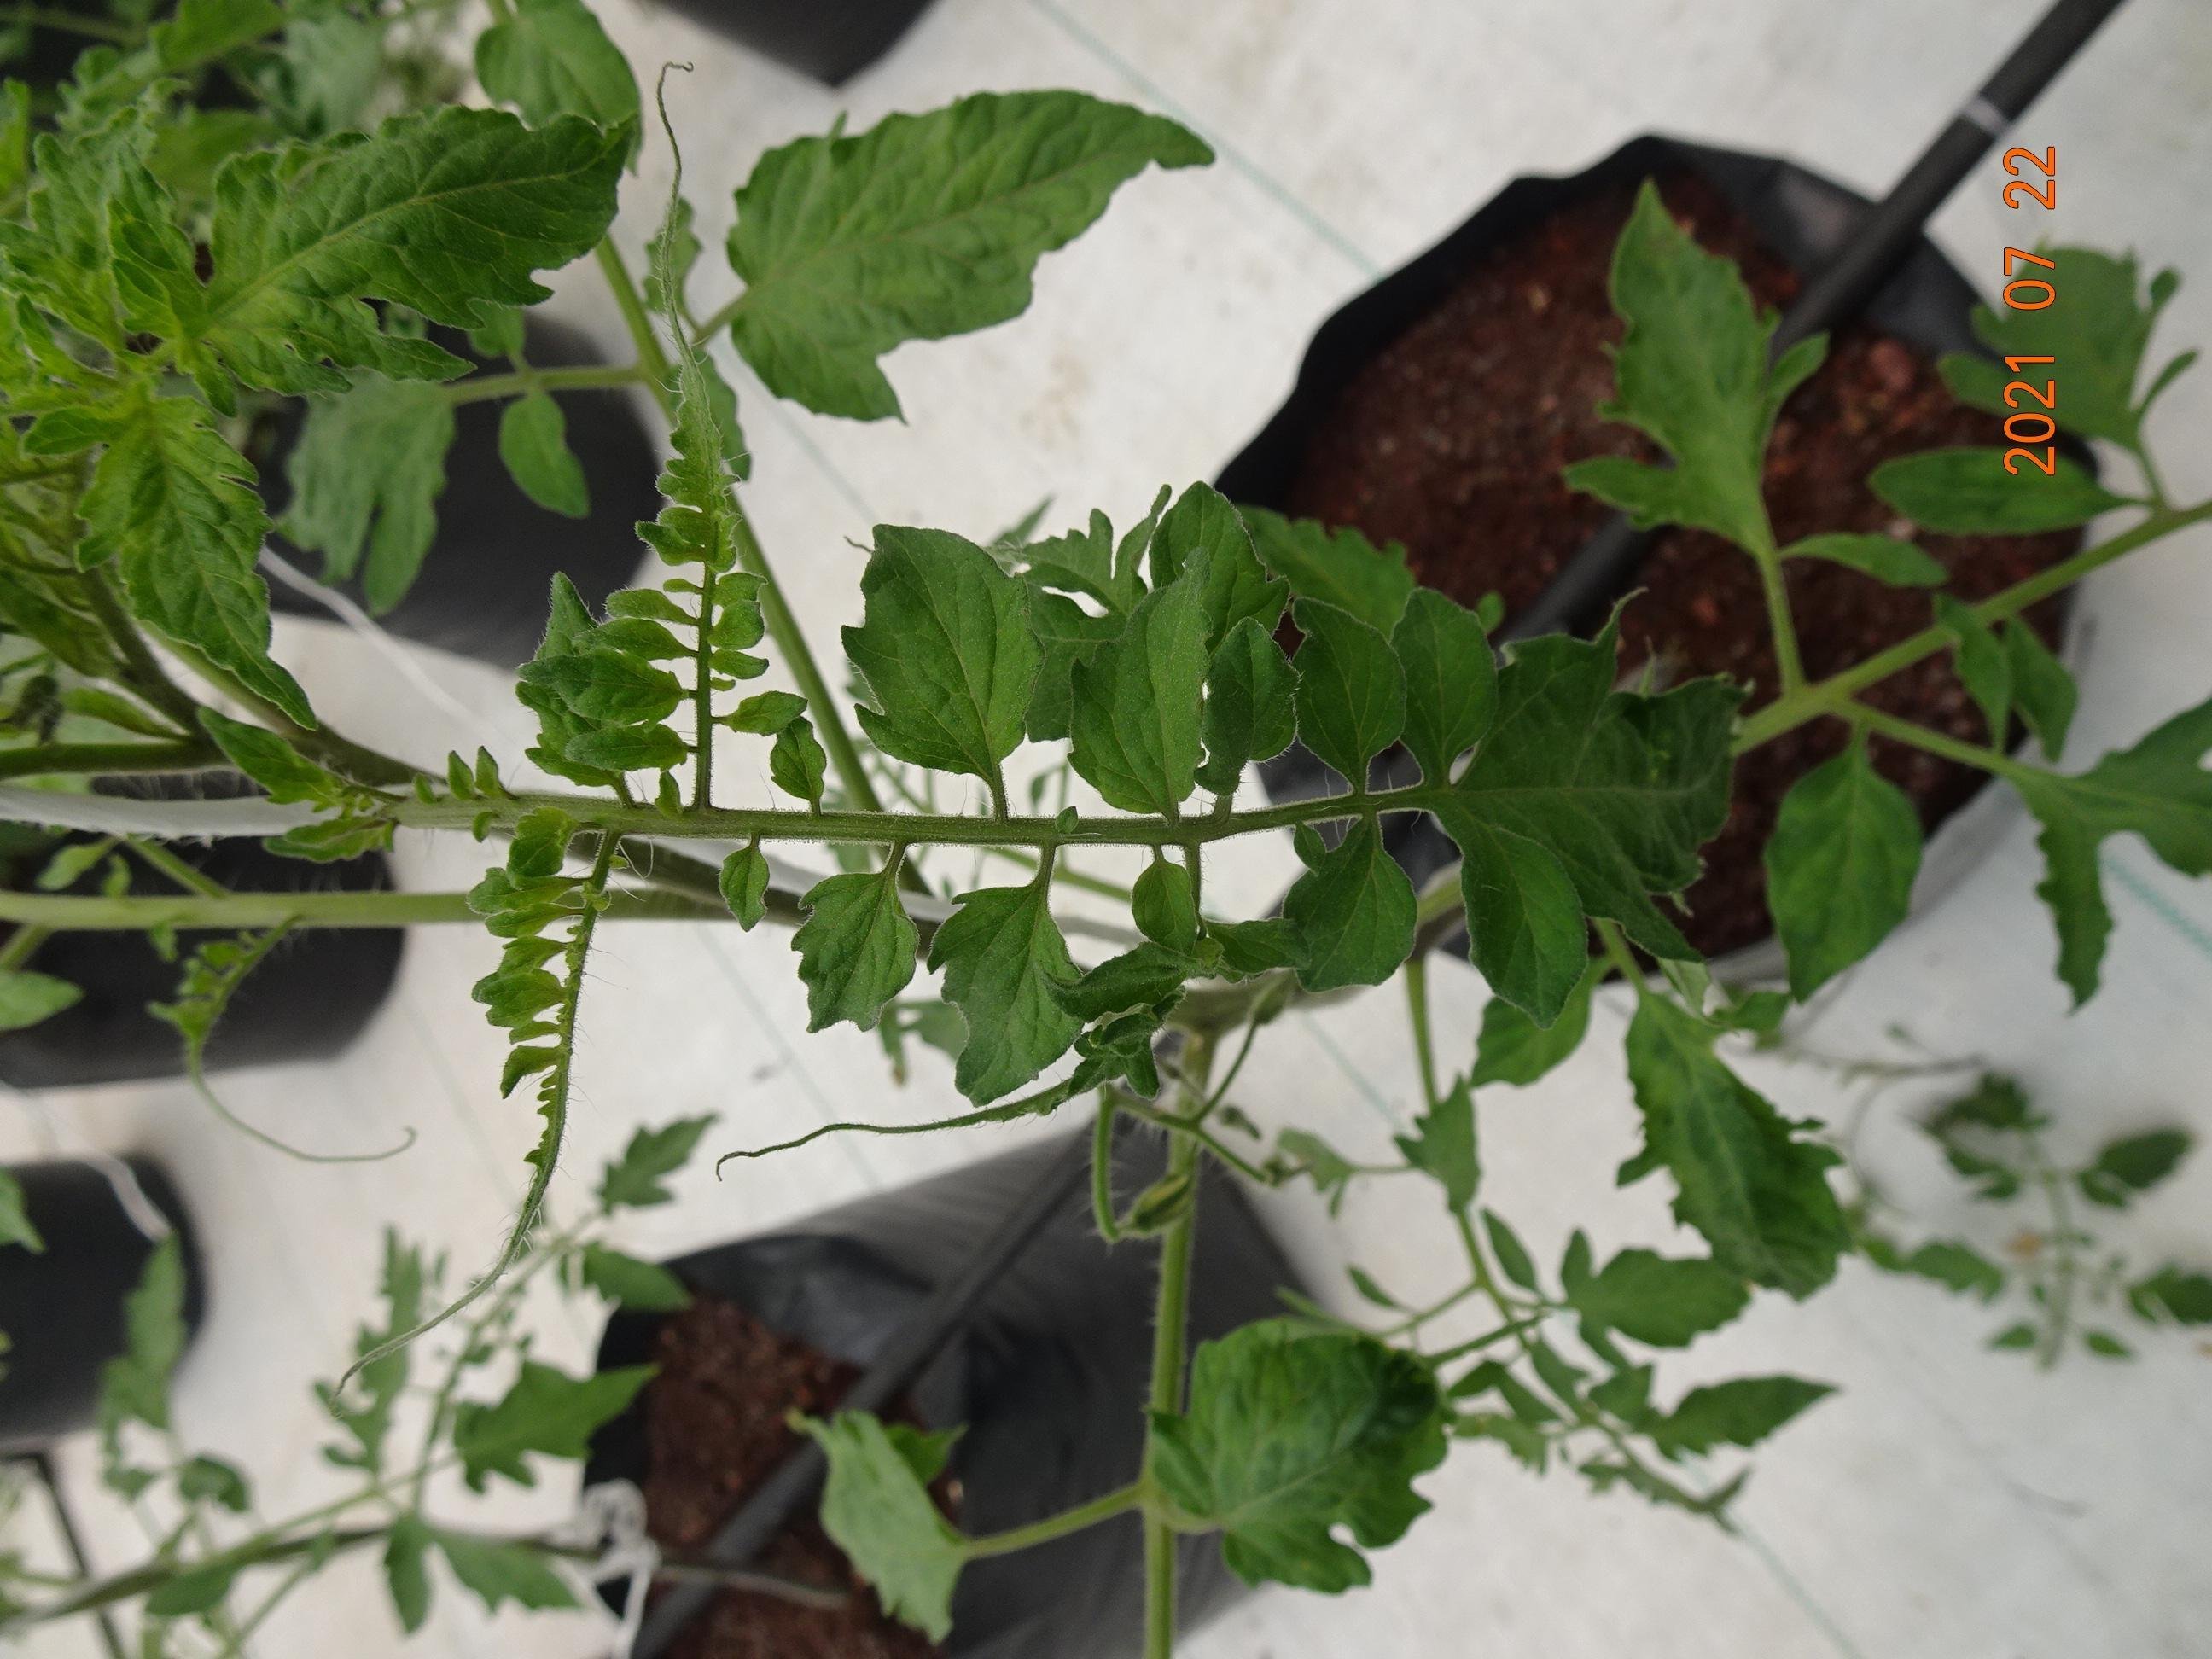Hoja: (517, 648, 683, 730), (770, 721, 827, 812)
Hoja rugoso: (204, 108, 627, 394), (78, 397, 312, 725), (843, 526, 1042, 817), (928, 847, 1080, 1101), (1071, 549, 1211, 821), (1439, 812, 1585, 1028), (791, 847, 916, 1033), (1284, 817, 1418, 990), (1292, 596, 1404, 795), (1392, 587, 1494, 786), (1197, 619, 1296, 803)
Pedunculo: (514, 795, 1341, 843)
